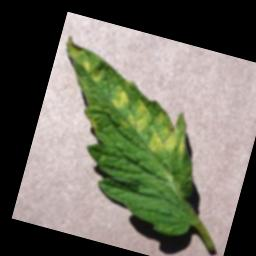Leaf_Mold: (40, 32, 213, 165)
